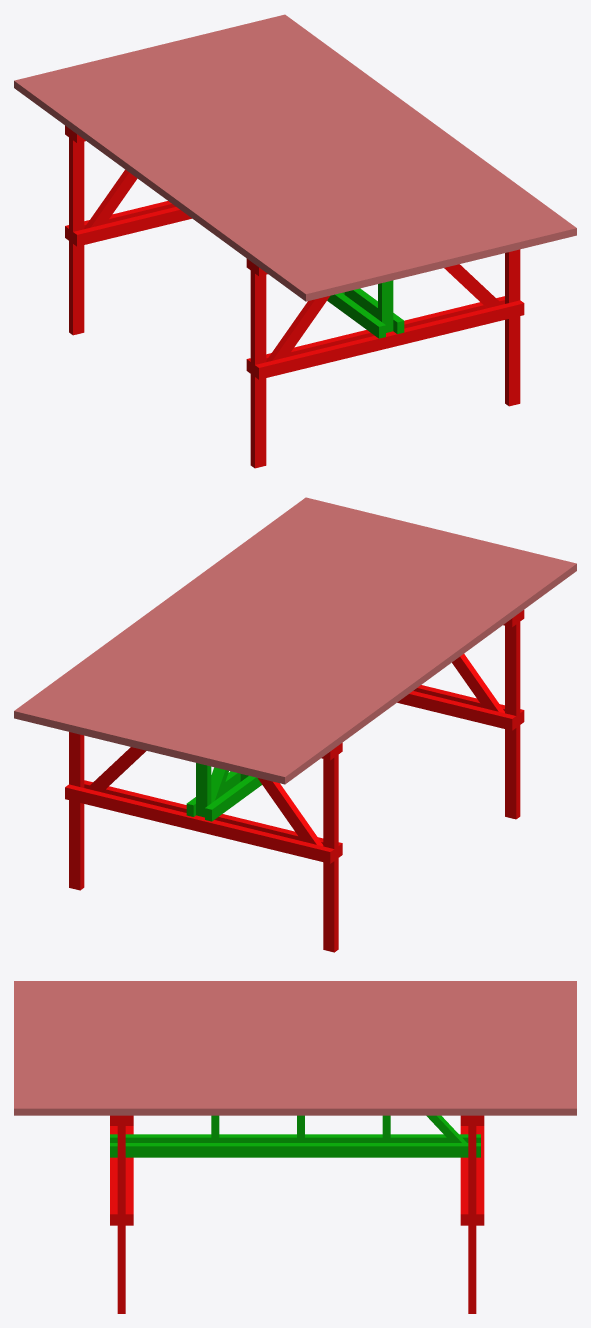
Rendered from result.glb.
3 renders of one model, top to bottom at view 1: azimuth 30°, elevation 25°; view 2: azimuth 150°, elevation 25°; view 3: azimuth 270°, elevation 25°, orthographic. The views are drawn at different scales.
Visible parts, largest first — view 1: 6b72e8aa-2d54-47aa-9c53-6181012e0ba3__Box, c5bf4c1a-c5a8-4d5b-b56f-95e109fdeacf__sideH, 47a66b51-7d07-4ee7-968f-9c526c22bb4c__undefined, af7ff9fb-8bbf-4b13-9097-531bf6392e71__undefined, 8cbf3956-bfbd-407e-899e-e116fa10a63b__undefined, 718a864e-a334-4e6f-af69-4e47390cf4ea__undefined, 8b152ad2-dbf1-4f56-8485-3a159bb39685__undefined, b9cacc68-ba94-4b37-bdaa-1ea23a1cb71f__undefined, cb0207bd-d8c9-485b-83bd-17609ddc2538__undefined, 1e5b341d-dcd7-4986-bd81-ba4456654072__undefined, 899fcdc1-4ad4-4382-8136-13bef33fc4c5__undefined, 3e27fb00-ecab-4d4a-8b92-56b79938c56d__undefined (+25 smaller); view 2: 6b72e8aa-2d54-47aa-9c53-6181012e0ba3__Box, 8d590537-75b8-41fd-a222-59c2bb164741__undefined, f6d92a4f-3a2c-4ec8-ad47-9ed93910f9e7__undefined, ae96b2fa-b31c-40df-92f8-54ad8c954a1a__undefined, 718a864e-a334-4e6f-af69-4e47390cf4ea__undefined, af04de4e-060d-4722-9d39-66de73fc13fb__undefined, cb0207bd-d8c9-485b-83bd-17609ddc2538__undefined, 1e5b341d-dcd7-4986-bd81-ba4456654072__undefined, 3e27fb00-ecab-4d4a-8b92-56b79938c56d__undefined, af7ff9fb-8bbf-4b13-9097-531bf6392e71__undefined, b37d1cf8-3a93-4bf6-897b-2535a3606077__undefined, 8cbf3956-bfbd-407e-899e-e116fa10a63b__undefined (+24 smaller); view 3: 3e2ea973-8bb7-4efd-a91e-09a7fb78f555__undefined, 62a433dd-7751-4fd5-9e27-9fa578d11213__strutH, 6b72e8aa-2d54-47aa-9c53-6181012e0ba3__Box, f6d92a4f-3a2c-4ec8-ad47-9ed93910f9e7__undefined, 1e5b341d-dcd7-4986-bd81-ba4456654072__undefined, 899fcdc1-4ad4-4382-8136-13bef33fc4c5__undefined, ae96b2fa-b31c-40df-92f8-54ad8c954a1a__undefined, 3e27fb00-ecab-4d4a-8b92-56b79938c56d__undefined, 223d7b29-682b-4349-b243-e3eee9255154__undefined, af7ff9fb-8bbf-4b13-9097-531bf6392e71__undefined, b37d1cf8-3a93-4bf6-897b-2535a3606077__undefined, 8cbf3956-bfbd-407e-899e-e116fa10a63b__undefined (+21 smaller).
Boxes of the visible parts, x1,y1,x2,y2 form: 6b72e8aa-2d54-47aa-9c53-6181012e0ba3__Box: (14,78,317,301); c5bf4c1a-c5a8-4d5b-b56f-95e109fdeacf__sideH: (255,300,524,379); 47a66b51-7d07-4ee7-968f-9c526c22bb4c__undefined: (161,42,463,265); af7ff9fb-8bbf-4b13-9097-531bf6392e71__undefined: (93,58,396,282); 8cbf3956-bfbd-407e-899e-e116fa10a63b__undefined: (116,53,418,276); 718a864e-a334-4e6f-af69-4e47390cf4ea__undefined: (138,47,441,271); 8b152ad2-dbf1-4f56-8485-3a159bb39685__undefined: (172,39,475,262); b9cacc68-ba94-4b37-bdaa-1ea23a1cb71f__undefined: (251,20,554,243); cb0207bd-d8c9-485b-83bd-17609ddc2538__undefined: (263,17,565,240); 1e5b341d-dcd7-4986-bd81-ba4456654072__undefined: (37,72,339,295); 899fcdc1-4ad4-4382-8136-13bef33fc4c5__undefined: (48,69,350,293); 3e27fb00-ecab-4d4a-8b92-56b79938c56d__undefined: (71,64,373,287); 6b72e8aa-2d54-47aa-9c53-6181012e0ba3__Box: (273,561,576,784); 8d590537-75b8-41fd-a222-59c2bb164741__undefined: (65,784,334,863); f6d92a4f-3a2c-4ec8-ad47-9ed93910f9e7__undefined: (262,558,565,781); ae96b2fa-b31c-40df-92f8-54ad8c954a1a__undefined: (228,550,531,773); 718a864e-a334-4e6f-af69-4e47390cf4ea__undefined: (149,530,452,754); af04de4e-060d-4722-9d39-66de73fc13fb__undefined: (70,511,372,734); cb0207bd-d8c9-485b-83bd-17609ddc2538__undefined: (25,500,327,723); 1e5b341d-dcd7-4986-bd81-ba4456654072__undefined: (251,555,553,778); 3e27fb00-ecab-4d4a-8b92-56b79938c56d__undefined: (217,547,519,770); af7ff9fb-8bbf-4b13-9097-531bf6392e71__undefined: (194,541,497,764); b37d1cf8-3a93-4bf6-897b-2535a3606077__undefined: (183,539,486,762); 8cbf3956-bfbd-407e-899e-e116fa10a63b__undefined: (172,536,474,759); 3e2ea973-8bb7-4efd-a91e-09a7fb78f555__undefined: (14,1103,576,1115); 62a433dd-7751-4fd5-9e27-9fa578d11213__strutH: (110,1143,480,1157); 6b72e8aa-2d54-47aa-9c53-6181012e0ba3__Box: (14,981,576,986); f6d92a4f-3a2c-4ec8-ad47-9ed93910f9e7__undefined: (14,986,576,991); 1e5b341d-dcd7-4986-bd81-ba4456654072__undefined: (14,991,576,996); 899fcdc1-4ad4-4382-8136-13bef33fc4c5__undefined: (14,997,576,1002); ae96b2fa-b31c-40df-92f8-54ad8c954a1a__undefined: (14,1002,576,1007); 3e27fb00-ecab-4d4a-8b92-56b79938c56d__undefined: (14,1007,576,1012); 223d7b29-682b-4349-b243-e3eee9255154__undefined: (14,1013,576,1018); af7ff9fb-8bbf-4b13-9097-531bf6392e71__undefined: (14,1018,576,1023); b37d1cf8-3a93-4bf6-897b-2535a3606077__undefined: (14,1023,576,1028); 8cbf3956-bfbd-407e-899e-e116fa10a63b__undefined: (14,1029,576,1034).
Bounding box in the file's own units: 960 × 725 × 1790.
